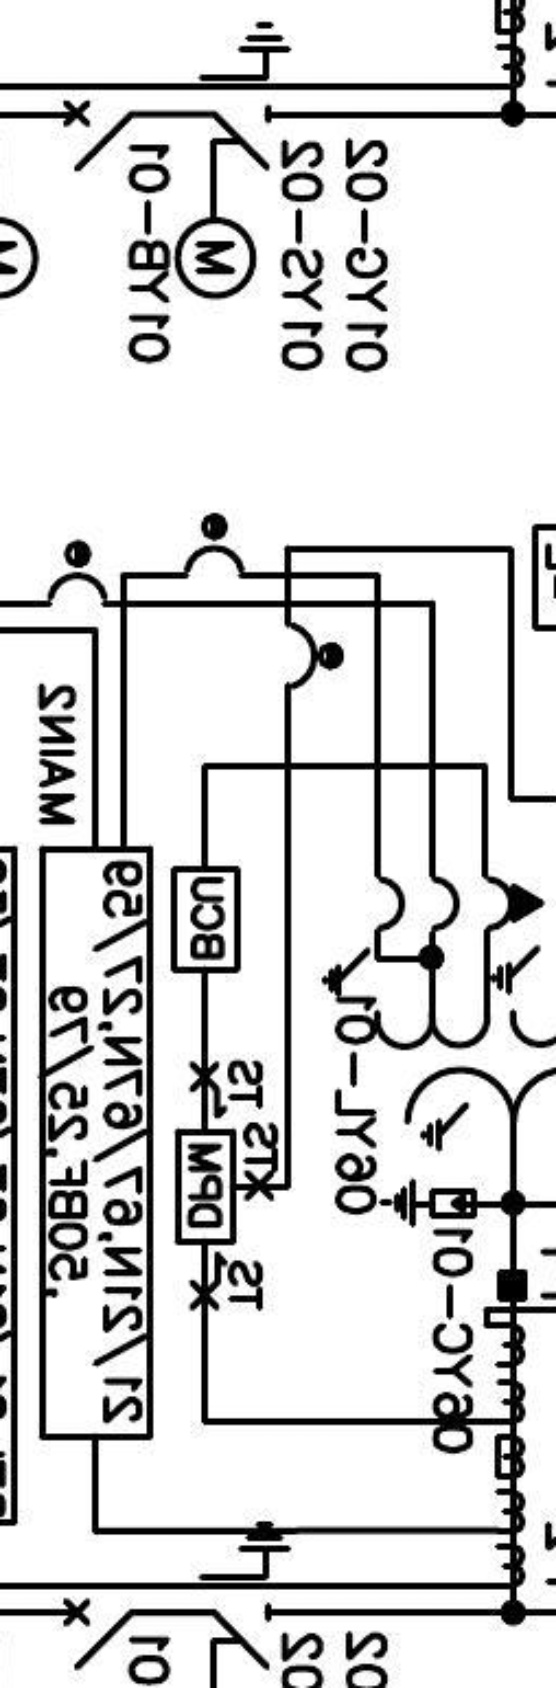115_3ways_ds_w_motor: (172, 20, 293, 301)
115_breaker: (62, 99, 135, 172), (62, 1598, 134, 1672)
115_la: (377, 1177, 478, 1229)
BCU: (169, 864, 242, 975)
DPM: (173, 1128, 238, 1247)
